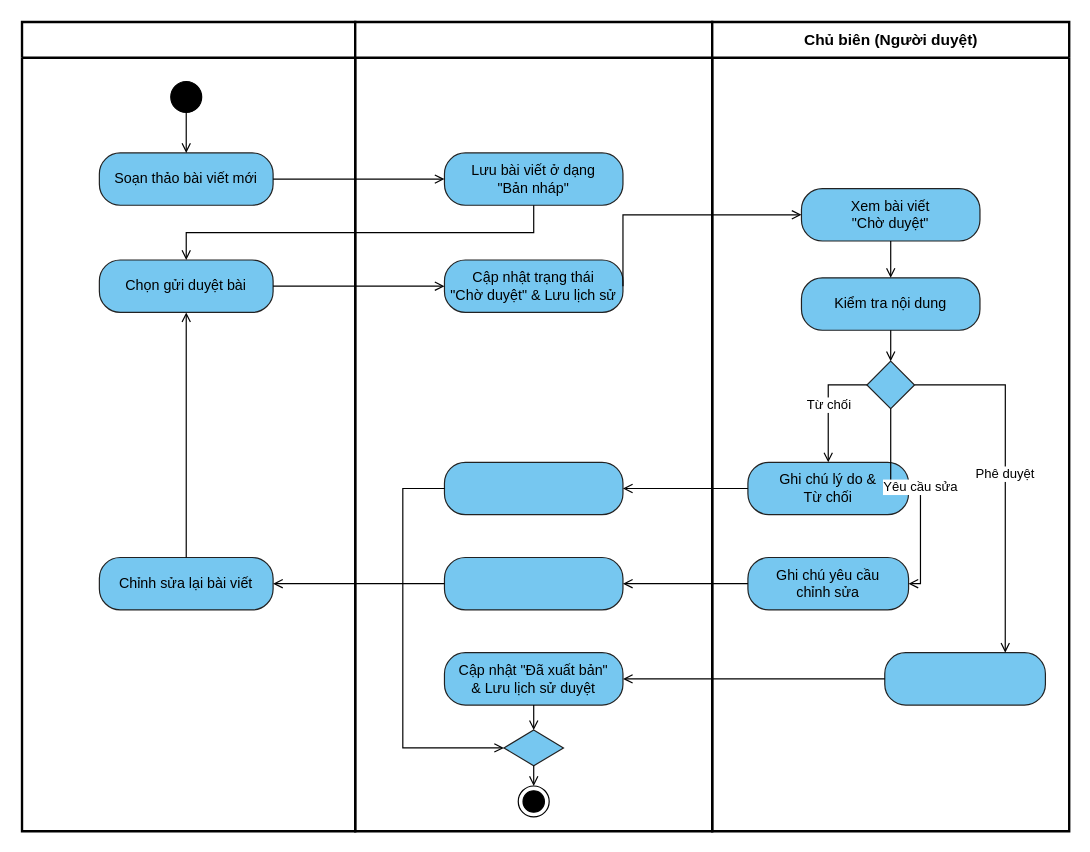
The diagram is 1090 pixels wide and 852 high, and some of its shapes have lost their labels. The box of each missing label's shape, as (x1, y1, x2, y2) in pixels:
Biên tập viên (Tác giả): (20, 20, 356, 832)
Cập nhật trạng thái "Từ chối": (443, 461, 623, 515)
Hệ thống: (353, 20, 713, 832)
Phê duyệt & Xuất bản bài viết: (884, 652, 1045, 705)
Trả về trạng thái "Bản nháp": (443, 556, 623, 610)
